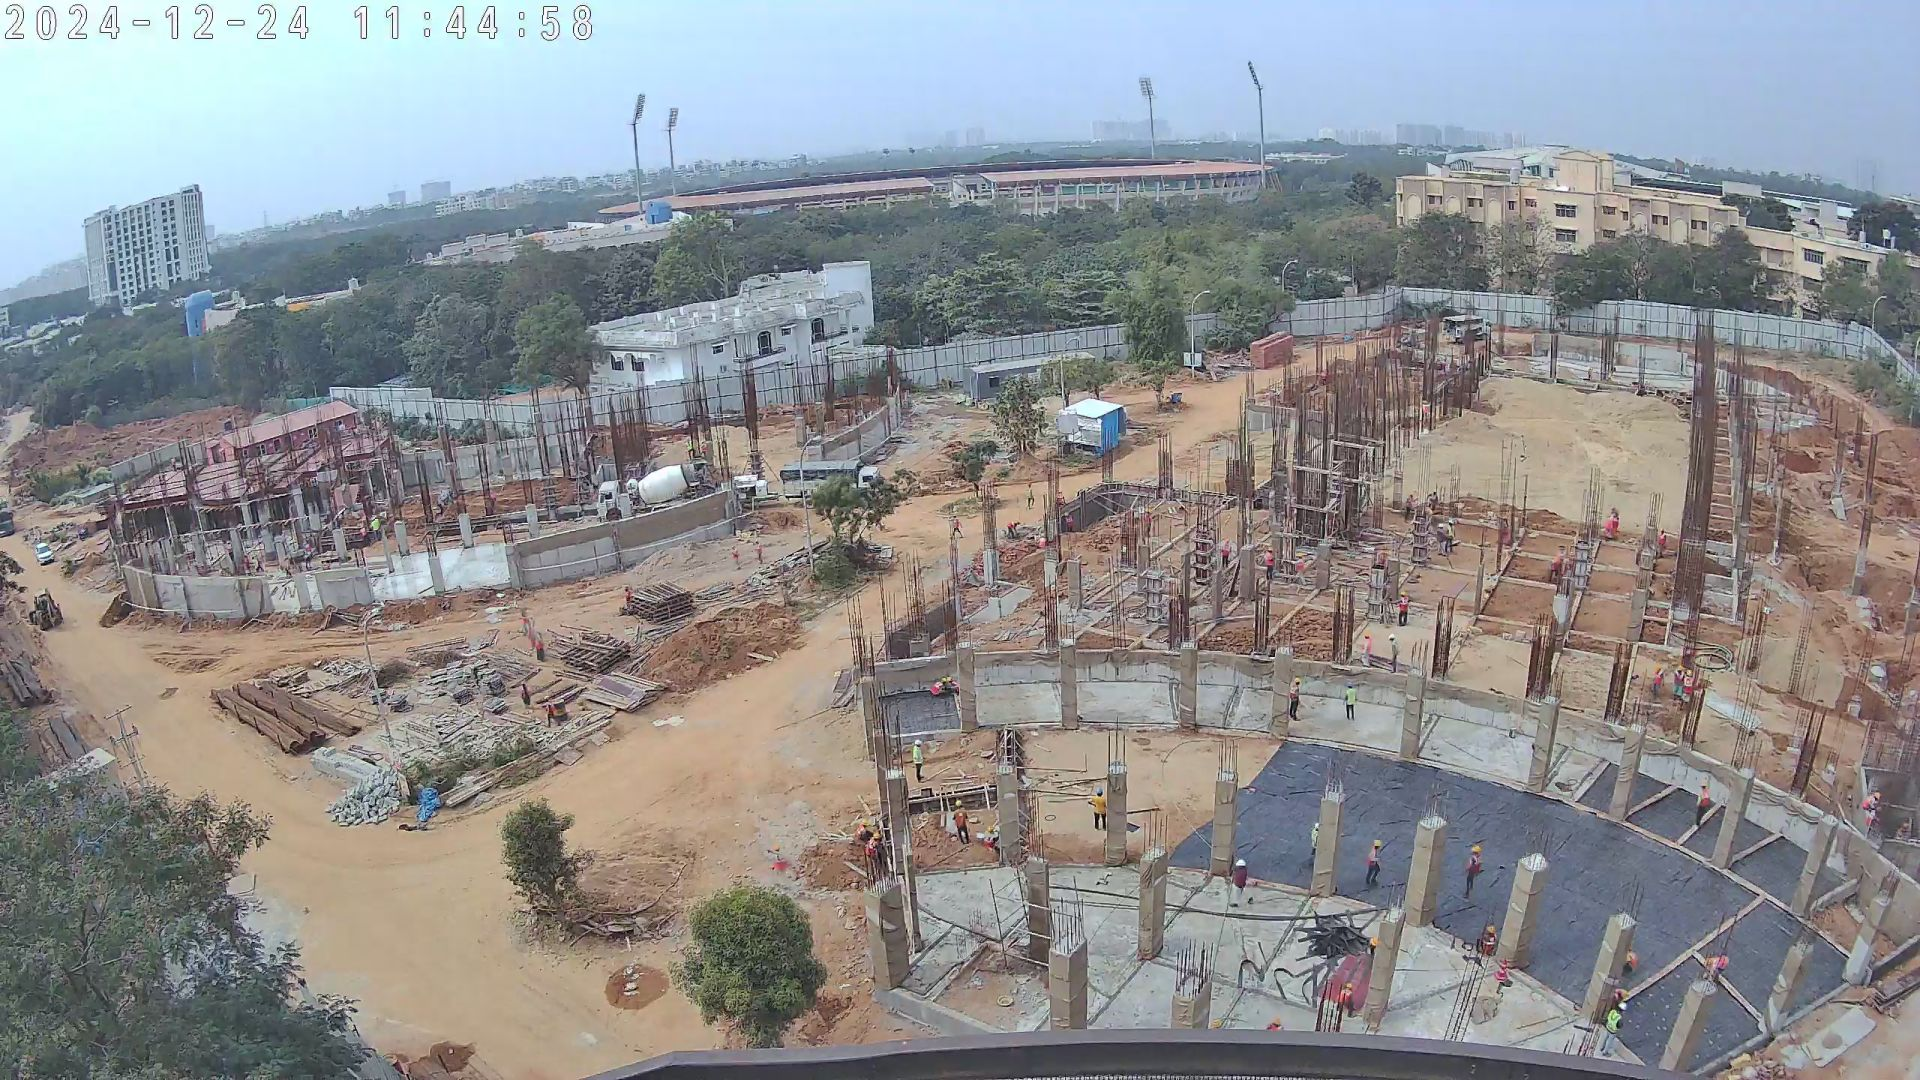bulldozer: (29, 591, 65, 629)
car: (29, 541, 54, 566)
truck: (594, 467, 701, 523), (773, 461, 881, 504), (1443, 311, 1496, 346)
worker: (1600, 1002, 1628, 1056), (1360, 834, 1386, 890), (857, 830, 883, 884), (1083, 787, 1111, 836), (1227, 856, 1250, 913), (1464, 841, 1484, 906), (1491, 508, 1513, 554), (1544, 550, 1566, 596), (1703, 950, 1730, 987), (1860, 788, 1883, 831), (1694, 781, 1711, 838), (953, 794, 970, 848), (909, 733, 924, 793), (949, 511, 971, 548), (1371, 546, 1389, 591), (1477, 926, 1497, 966), (1261, 547, 1279, 588), (1387, 633, 1406, 671), (1604, 504, 1623, 542), (981, 823, 999, 863), (1650, 661, 1667, 703), (1289, 676, 1303, 727), (1339, 687, 1359, 720), (1214, 533, 1230, 574), (543, 695, 560, 728), (1340, 983, 1356, 1016), (1023, 477, 1036, 516), (1624, 946, 1637, 983), (617, 584, 633, 614), (1653, 528, 1668, 559), (999, 518, 1020, 540), (1683, 668, 1696, 701), (1359, 633, 1371, 668), (1446, 519, 1457, 557), (729, 544, 744, 571), (1399, 593, 1411, 626), (1434, 522, 1445, 557), (1674, 663, 1684, 701), (520, 681, 534, 708), (1426, 485, 1440, 512), (1141, 507, 1154, 536), (370, 514, 383, 542), (534, 628, 544, 664), (751, 540, 766, 564), (516, 607, 528, 635), (1404, 490, 1414, 520), (1612, 986, 1628, 1004), (250, 556, 264, 576), (358, 524, 371, 544), (241, 554, 252, 577), (1034, 533, 1049, 549), (305, 539, 316, 559), (1065, 510, 1074, 531), (1055, 488, 1065, 505)
